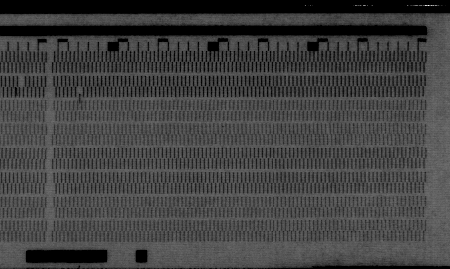Broken hole: (16, 75, 28, 87)
Oblique printing: (74, 87, 86, 102)
